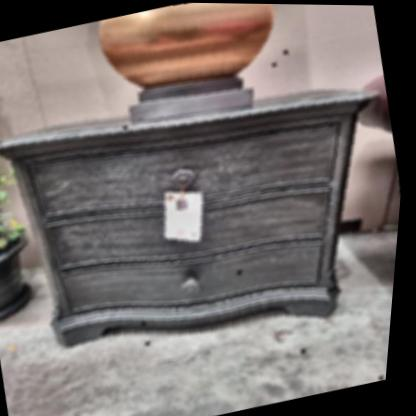Nightstand: (0, 51, 413, 386)
